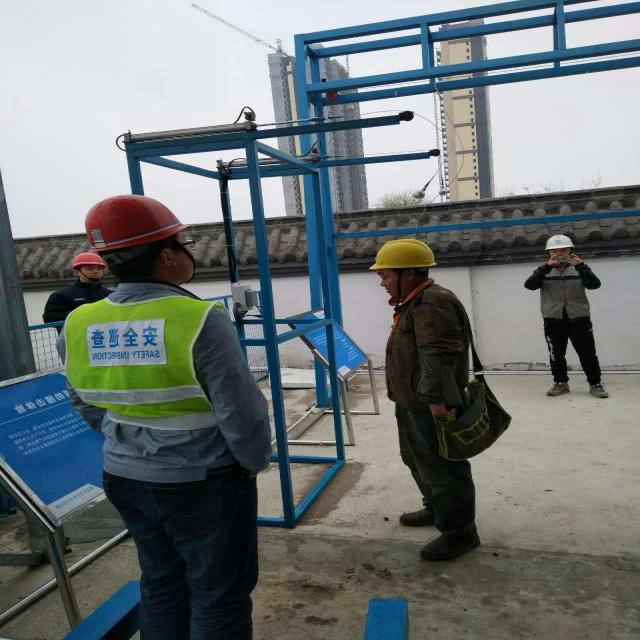Reflective-Jacket: (58, 291, 229, 435), (534, 259, 596, 320)
Safety-Helmet: (77, 189, 195, 253), (366, 235, 439, 272), (68, 250, 109, 270), (542, 232, 577, 252)
